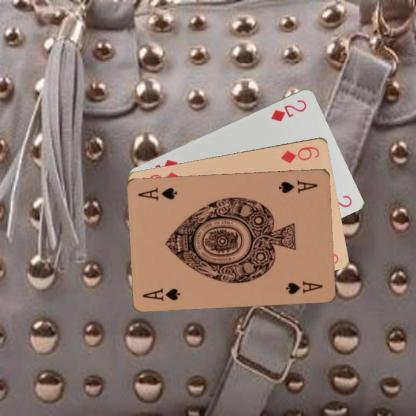2d: (268, 96, 308, 122)
6d: (278, 143, 322, 164)
As: (276, 178, 320, 194), (140, 286, 182, 302)
